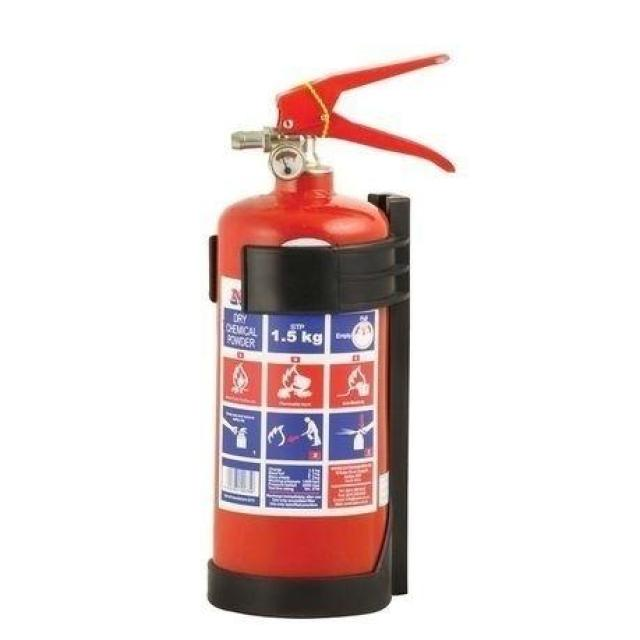fire_extinguisher: (198, 49, 459, 620)
